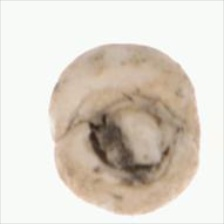L3: (88, 98, 182, 174)
L4: (48, 44, 202, 214)
